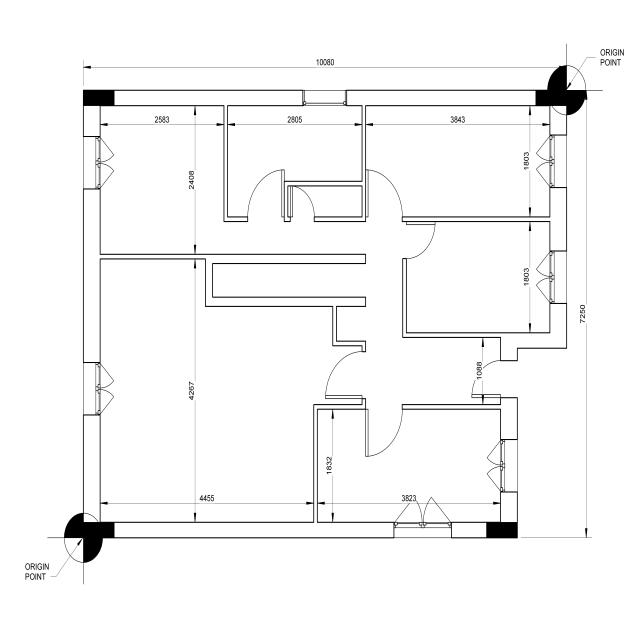Column: (84, 89, 118, 107), (534, 88, 568, 106), (84, 521, 115, 539), (487, 521, 518, 538)
Door: (238, 165, 284, 224), (315, 349, 366, 401), (362, 406, 406, 462), (471, 358, 518, 403), (366, 170, 400, 218), (406, 222, 438, 262), (289, 180, 318, 220)
Window: (386, 494, 455, 537), (82, 360, 116, 421), (533, 248, 567, 308), (535, 134, 569, 193), (485, 436, 518, 495), (84, 134, 118, 190), (300, 86, 350, 108)
